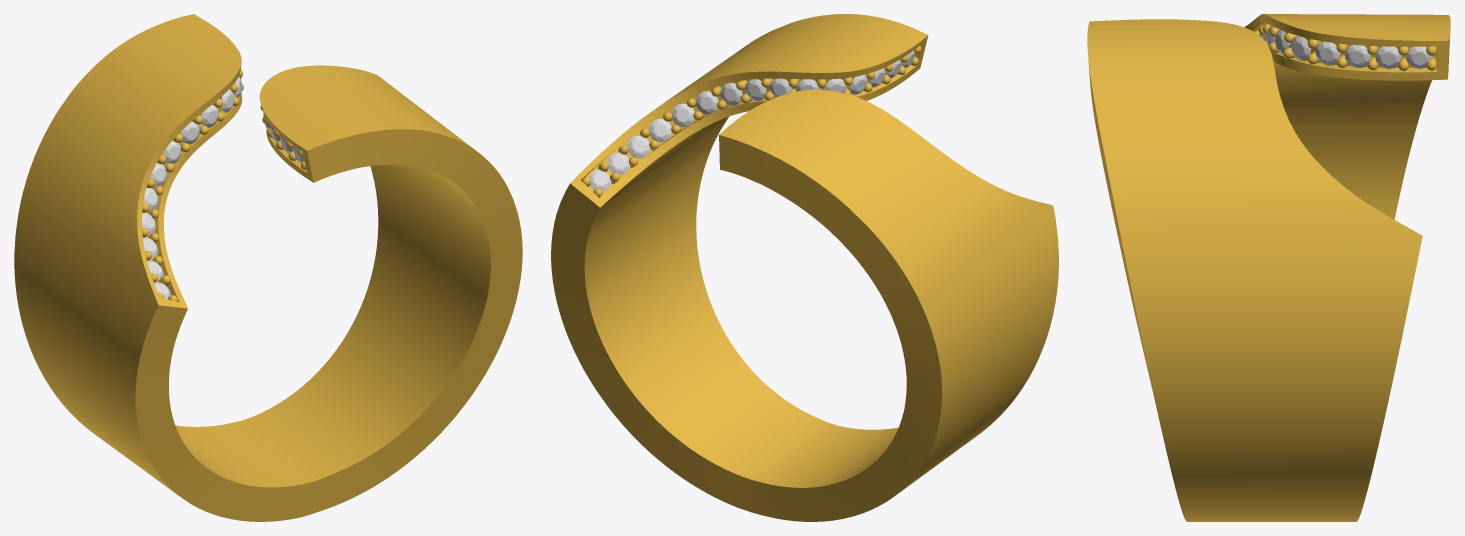
Rendered from Ring_A_Optimazed.fbx.
3 renders of one model, left to right at view 1: azimuth 30°, elevation 25°; view 2: azimuth 150°, elevation 25°; view 3: azimuth 270°, elevation 25°, orthographic. The views are drawn at different scales.
Visible parts, largest first — view 1: Ring_A_01_Object, Ring_A_Diamod_Object; view 2: Ring_A_01_Object, Ring_A_Diamod_Object; view 3: Ring_A_01_Object, Ring_A_Diamod_Object.
Part boxes in pixels (x1,y1,x2,y2): Ring_A_01_Object: (14, 14, 522, 521); Ring_A_Diamod_Object: (142, 76, 304, 299); Ring_A_01_Object: (551, 14, 1058, 521); Ring_A_Diamod_Object: (588, 50, 914, 191); Ring_A_01_Object: (1087, 14, 1450, 521); Ring_A_Diamod_Object: (1259, 25, 1432, 68).
Size of the model in its own units: 2.11 by 2.14 by 1.52.
